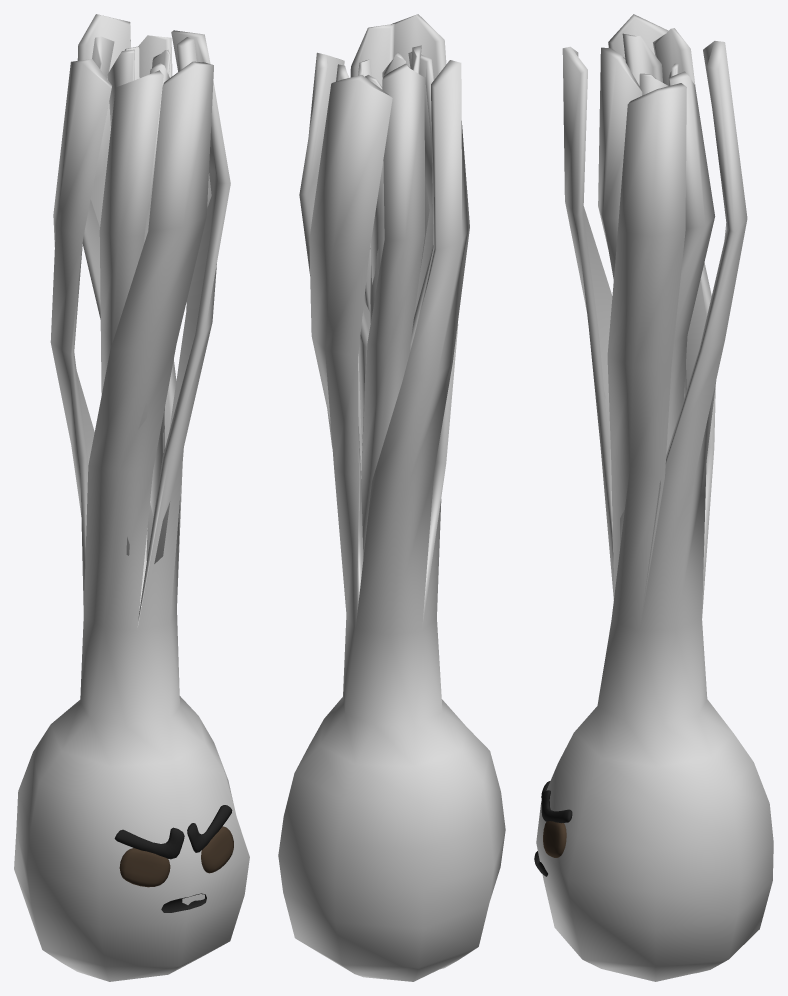
The model's file is PorroPROVISIONAL.fbx.
3 renders of one model, left to right at view 1: azimuth 30°, elevation 25°; view 2: azimuth 150°, elevation 25°; view 3: azimuth 270°, elevation 25°, orthographic. The views are drawn at different scales.
Visible parts, largest first — view 1: Leek, Eyes, Eyebrows; view 2: Leek; view 3: Leek, Eyes, Eyebrows.
Part boxes in pixels (x1,y1,x2,y2): Leek: (14,14,249,981); Eyes: (119,826,233,887); Eyebrows: (114,805,232,859); Leek: (278,14,505,981); Leek: (536,14,773,981); Eyes: (543,821,566,857); Eyebrows: (541,781,572,823).
Bounding box in the file's own units: 111 × 478 × 112.
